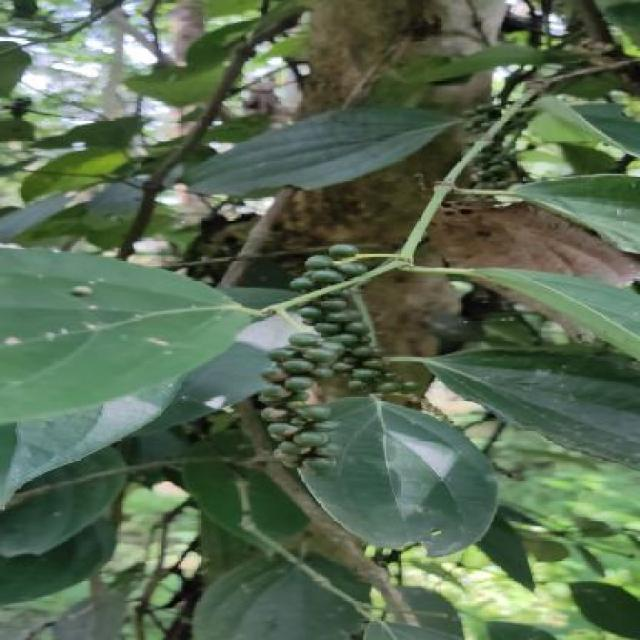UNRIPE: (265, 245, 412, 467), (458, 105, 516, 179)
